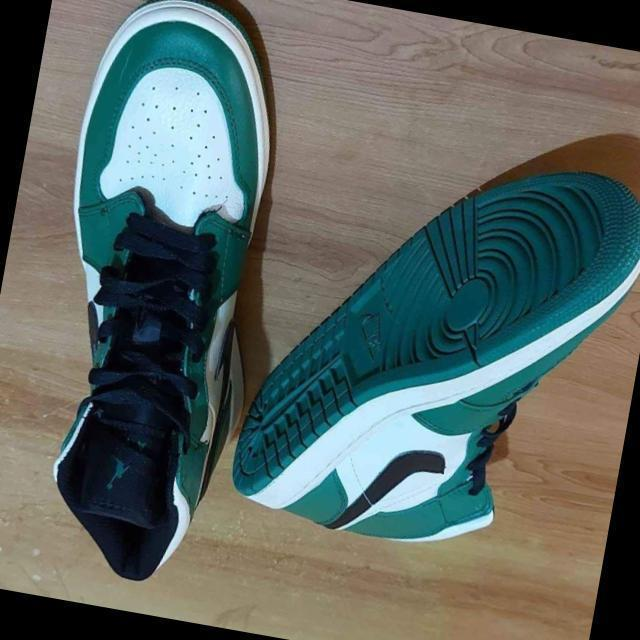nike fake jordan 1: (0, 0, 317, 597)
